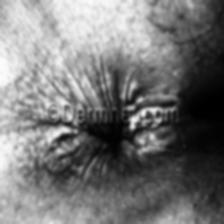Non-Cancerous Skin Condition: (48, 126, 84, 174), (68, 71, 98, 106)
